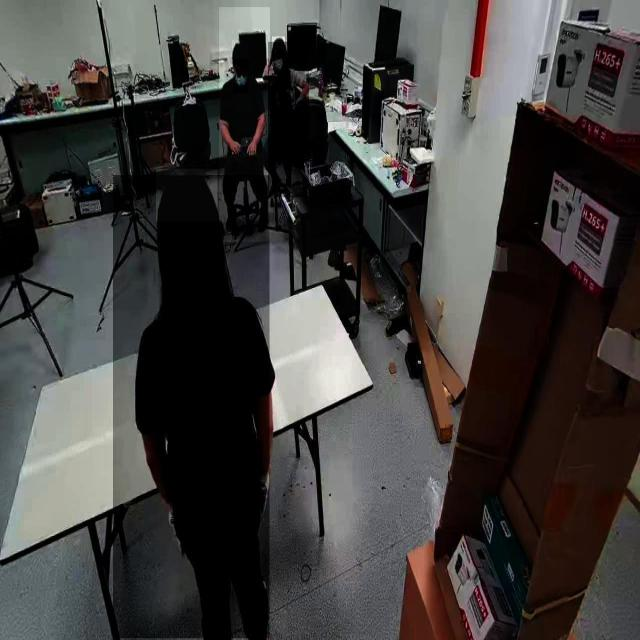face_mask: (233, 60, 249, 94), (272, 46, 286, 83)
hand_noglove: (227, 138, 241, 156), (246, 139, 258, 157)
head_nohelmet: (156, 169, 218, 222), (232, 40, 249, 60), (272, 36, 286, 49)
person: (113, 175, 270, 639), (219, 7, 271, 242), (268, 42, 310, 198)
